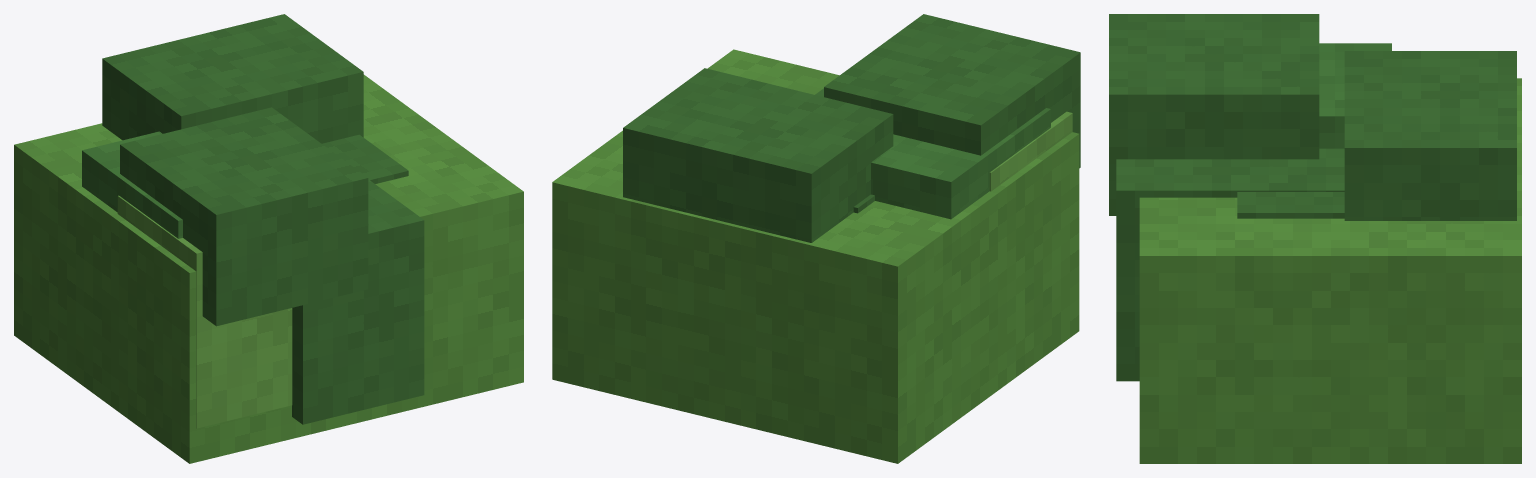
File: bush_1.glb
3 renders of one model, left to right at view 1: azimuth 30°, elevation 25°; view 2: azimuth 150°, elevation 25°; view 3: azimuth 270°, elevation 25°, orthographic. The views are drawn at different scales.
Visible parts, largest first — view 1: Bush; view 2: Bush; view 3: Bush.
Part boxes in pixels (x1,y1,x2,y2): Bush: (14, 14, 523, 463); Bush: (552, 14, 1080, 463); Bush: (1109, 14, 1521, 463).
Size of the model in its own units: 1.1 by 0.8107 by 1.08.
4 materials, 4 textured.
